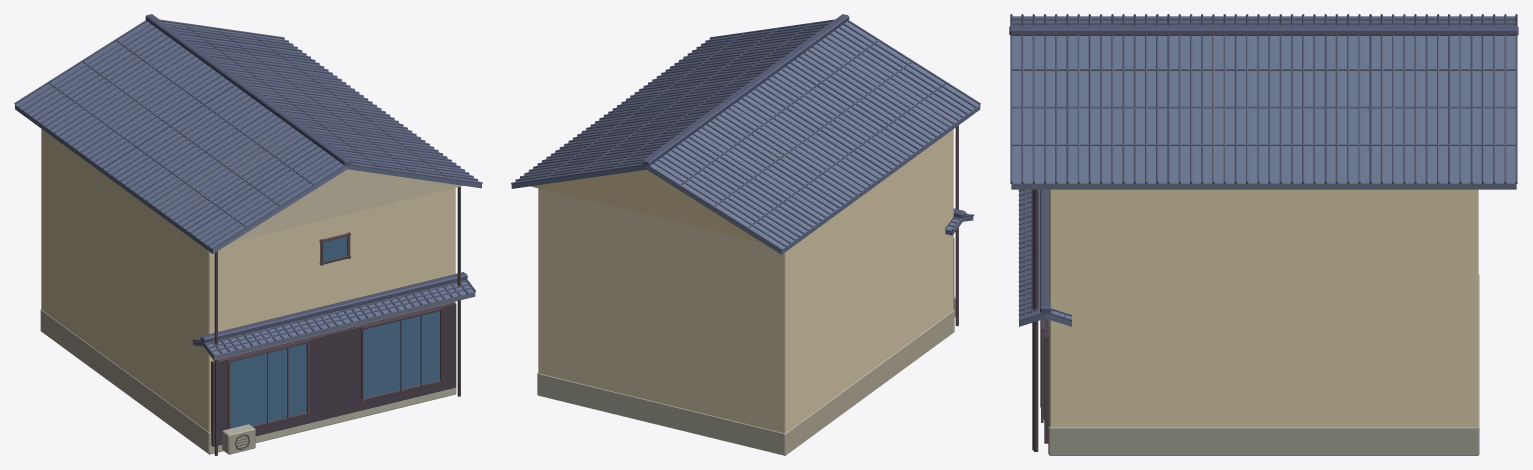
File: ART_WhiteStorehouse.glb
3 views of the same model, side by side, from view 1: azimuth 30°, elevation 25°; view 2: azimuth 150°, elevation 25°; view 3: azimuth 270°, elevation 25° (orthographic). The views are drawn at different scales.
Visible parts, largest first — view 1: ART_WhiteStorehouse; view 2: ART_WhiteStorehouse; view 3: ART_WhiteStorehouse.
Boxes of the visible parts, left/top/right/bottom form: ART_WhiteStorehouse: left=14, top=14, right=482, bottom=455; ART_WhiteStorehouse: left=511, top=14, right=980, bottom=455; ART_WhiteStorehouse: left=1009, top=14, right=1518, bottom=455.
Size of the model in its own units: 7.87 by 7.68 by 10.08.
